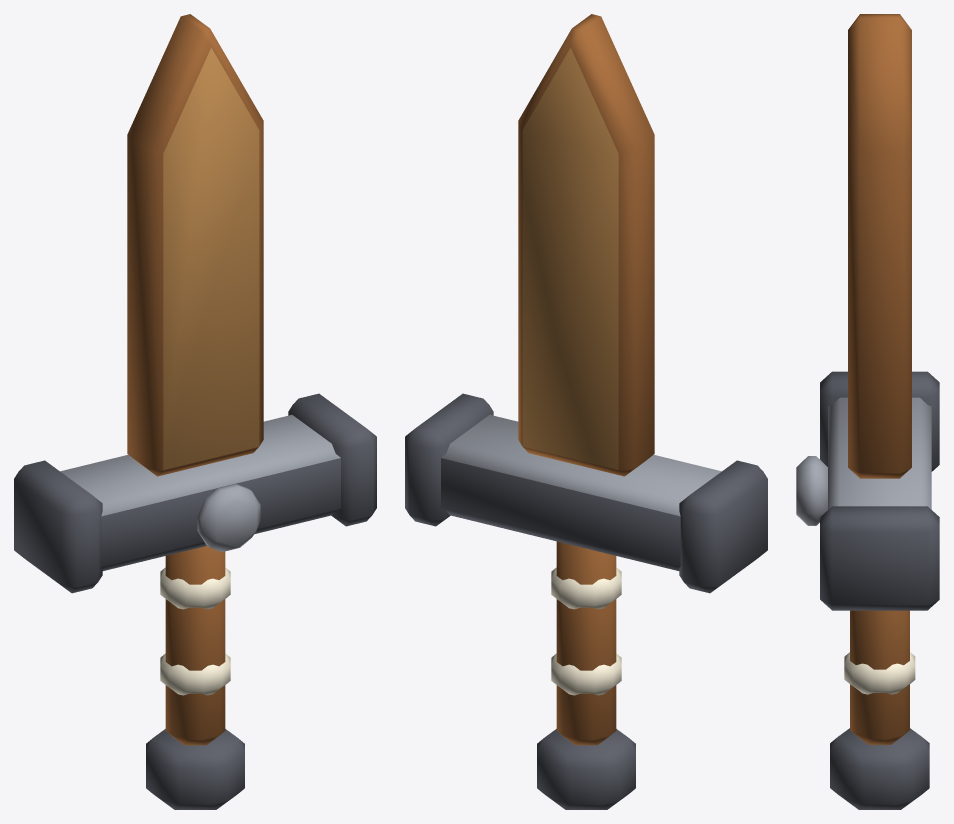
Rendered from G_MedSword_3.fbx.
3 views of the same model, side by side, from view 1: azimuth 30°, elevation 25°; view 2: azimuth 150°, elevation 25°; view 3: azimuth 270°, elevation 25° (orthographic).
Parts seen in each view (by area): view 1: M_Sword_3; view 2: M_Sword_3; view 3: M_Sword_3.
Part boxes in pixels (x1,y1,x2,y2): M_Sword_3: (14,14,376,809); M_Sword_3: (405,14,767,809); M_Sword_3: (796,14,939,809).
Bounding box in the file's own units: 0.46 × 1.08 × 0.18.
1 material, 1 textured.
